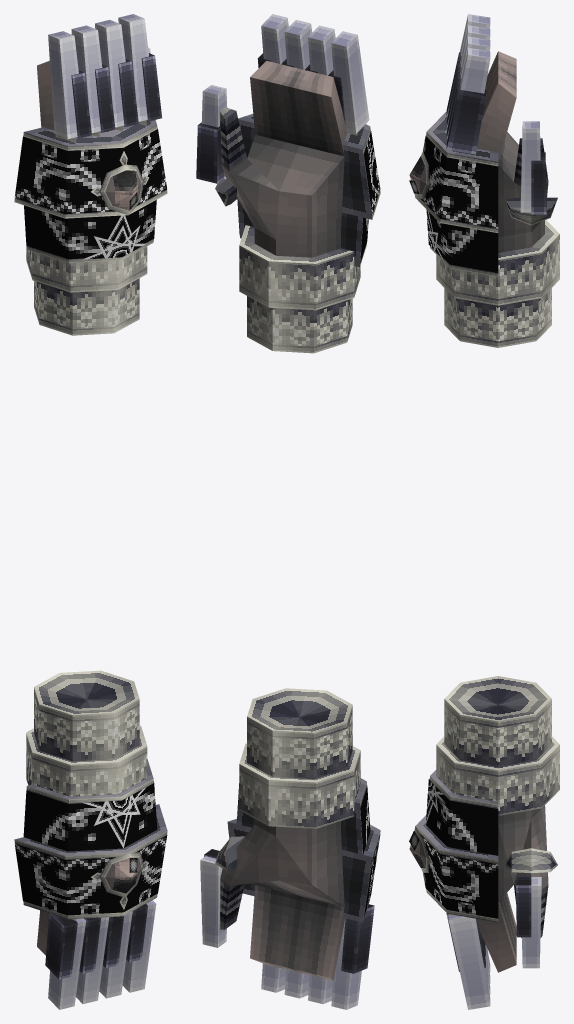
File: arms6132.obj
3 renders of one model, left to right at view 1: azimuth 30°, elevation 25°; view 2: azimuth 150°, elevation 25°; view 3: azimuth 270°, elevation 25°, orthographic.
Visible parts, largest first — view 1: arms6132; view 2: arms6132; view 3: arms6132.
Part boxes in pixels (bbox=[...]): arms6132: bbox=[14, 14, 167, 1009]; arms6132: bbox=[196, 14, 380, 1009]; arms6132: bbox=[409, 14, 559, 1009].
Size of the model in its own units: 0.5265 by 3.22 by 0.4614.
2 materials, 2 textured.
